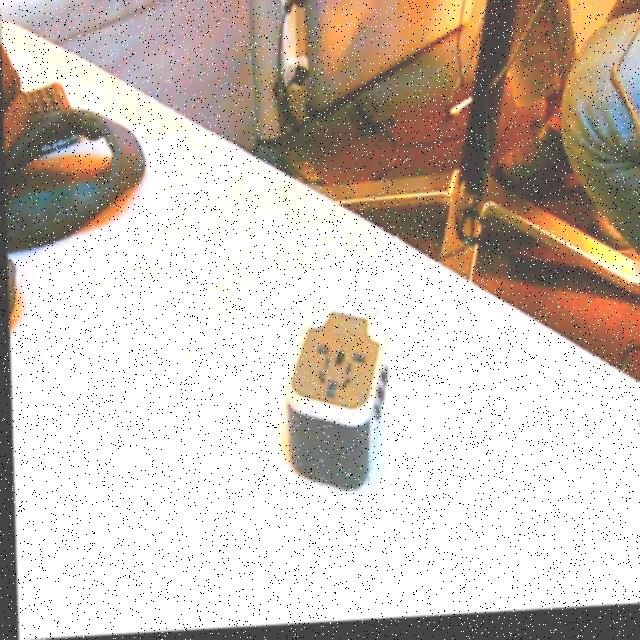adapter: (280, 307, 389, 497)
